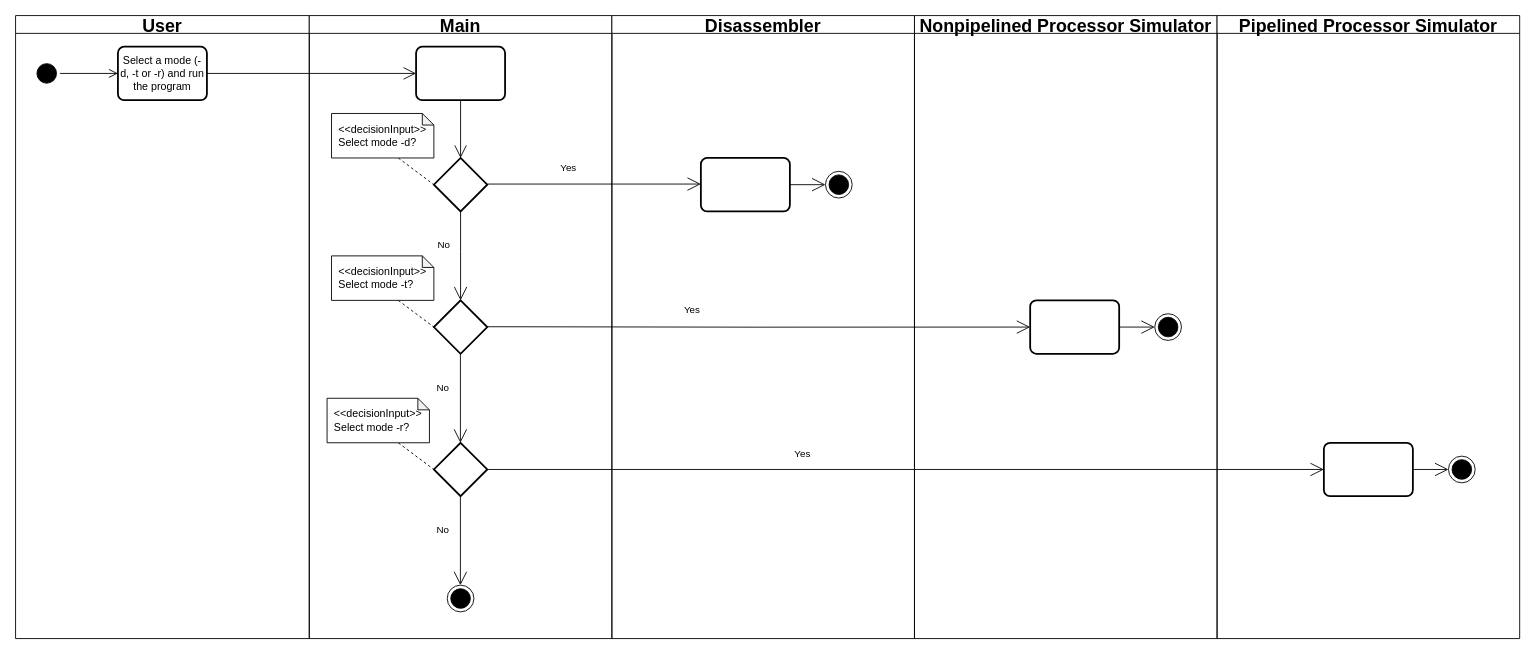
The diagram is 1535 pixels wide and 654 high, and some of its shapes have lost their labels. The box of each missing label's shape, as (x1, y1, x2, y2) in pixels:
Disassemble the input file: (700, 157, 790, 212)
Read the input file and receive the mode instruction: (415, 45, 506, 101)
Simulate by Scoreboarding Algorithm: (1323, 441, 1413, 497)
Simulate instruction by instruction: (1029, 299, 1120, 354)
